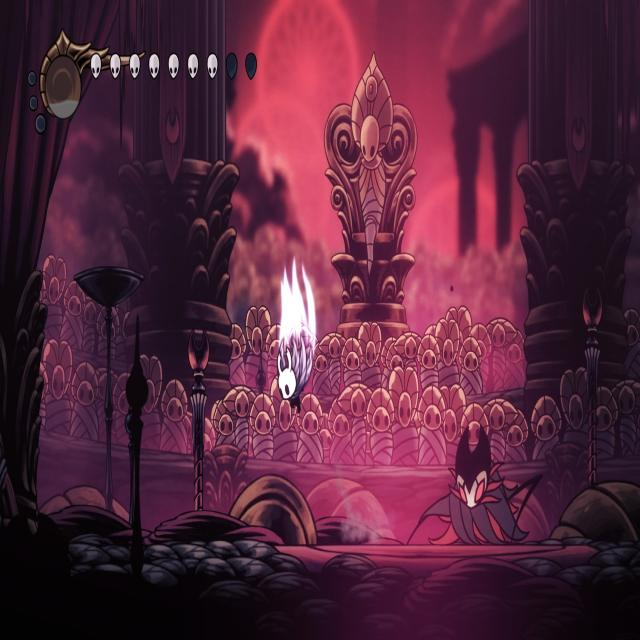Dive Dash: (399, 402, 542, 541)
Player: (274, 330, 315, 421)
